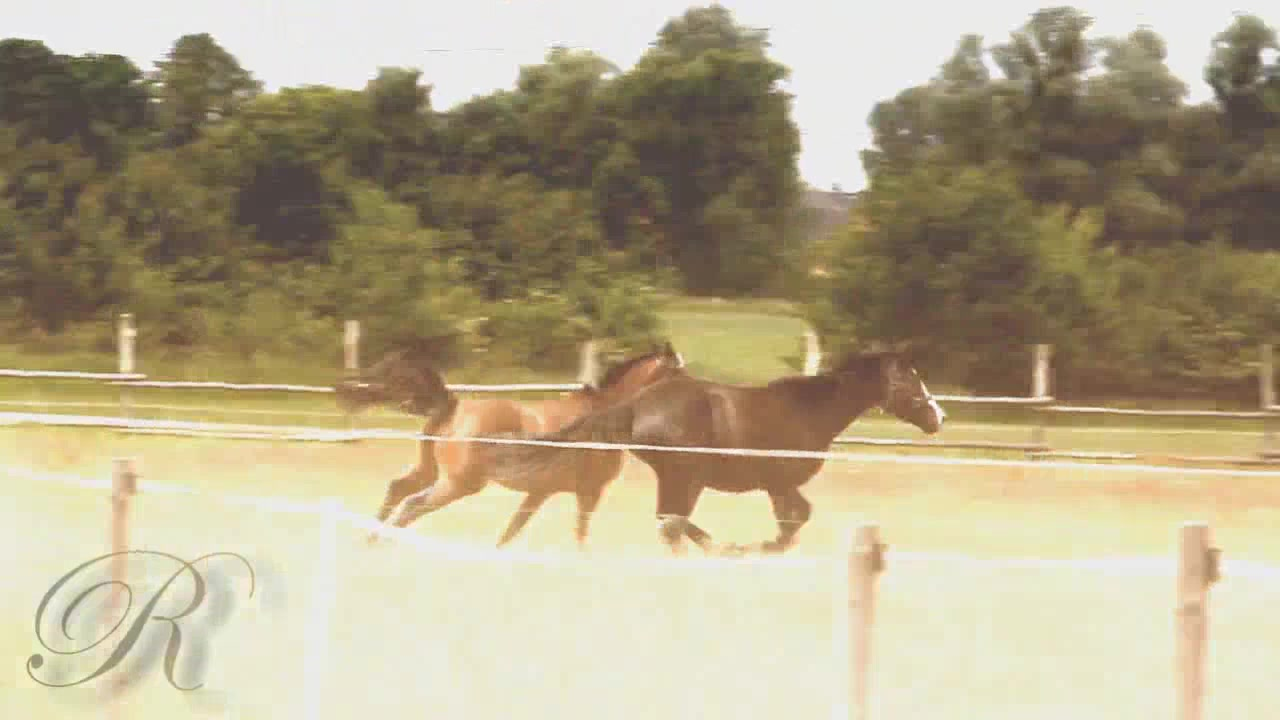horse: (500, 356, 949, 561), (340, 341, 693, 544)
